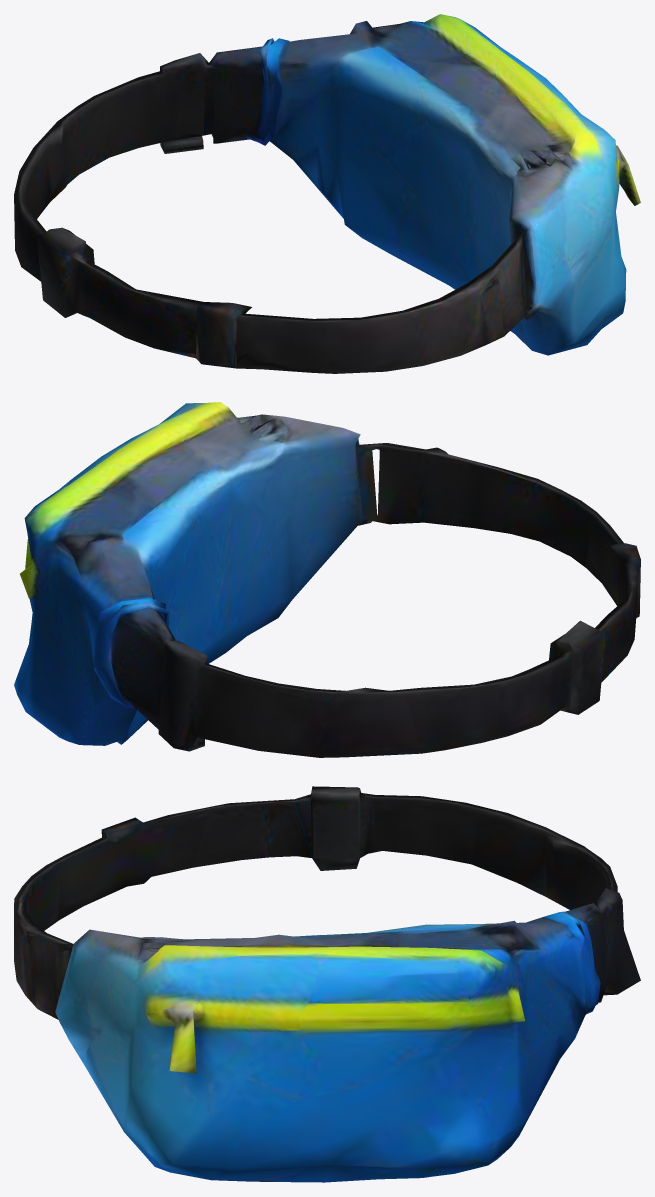
Rendered from pochete.glb.
3 views of the same model, one above another, from view 1: azimuth 30°, elevation 25°; view 2: azimuth 150°, elevation 25°; view 3: azimuth 270°, elevation 25° (orthographic). The views are drawn at different scales.
Visible parts, largest first — view 1: tripo_node_644e102b-f228-4701-a7e6-ab0b1f1a9a58; view 2: tripo_node_644e102b-f228-4701-a7e6-ab0b1f1a9a58; view 3: tripo_node_644e102b-f228-4701-a7e6-ab0b1f1a9a58.
Boxes of the visible parts, <box> form: tripo_node_644e102b-f228-4701-a7e6-ab0b1f1a9a58: <box>14,14,640,373</box>; tripo_node_644e102b-f228-4701-a7e6-ab0b1f1a9a58: <box>14,402,640,757</box>; tripo_node_644e102b-f228-4701-a7e6-ab0b1f1a9a58: <box>14,786,640,1182</box>.
Bounding box in the file's own units: 0.9812 × 0.4059 × 1.
1 material, 1 textured.
